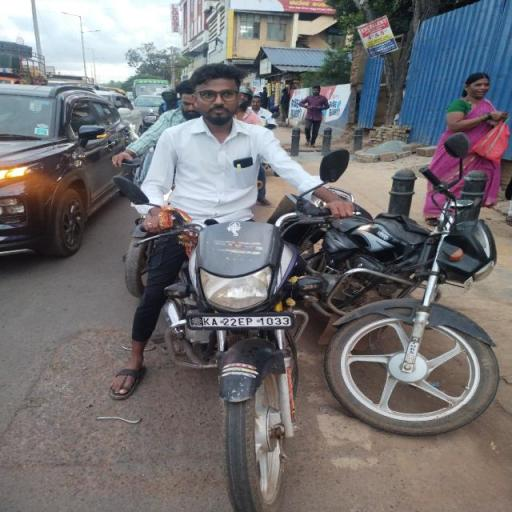bike: (96, 57, 367, 512)
numberplate: (187, 312, 292, 330)
withouthelmet: (193, 66, 245, 120)
